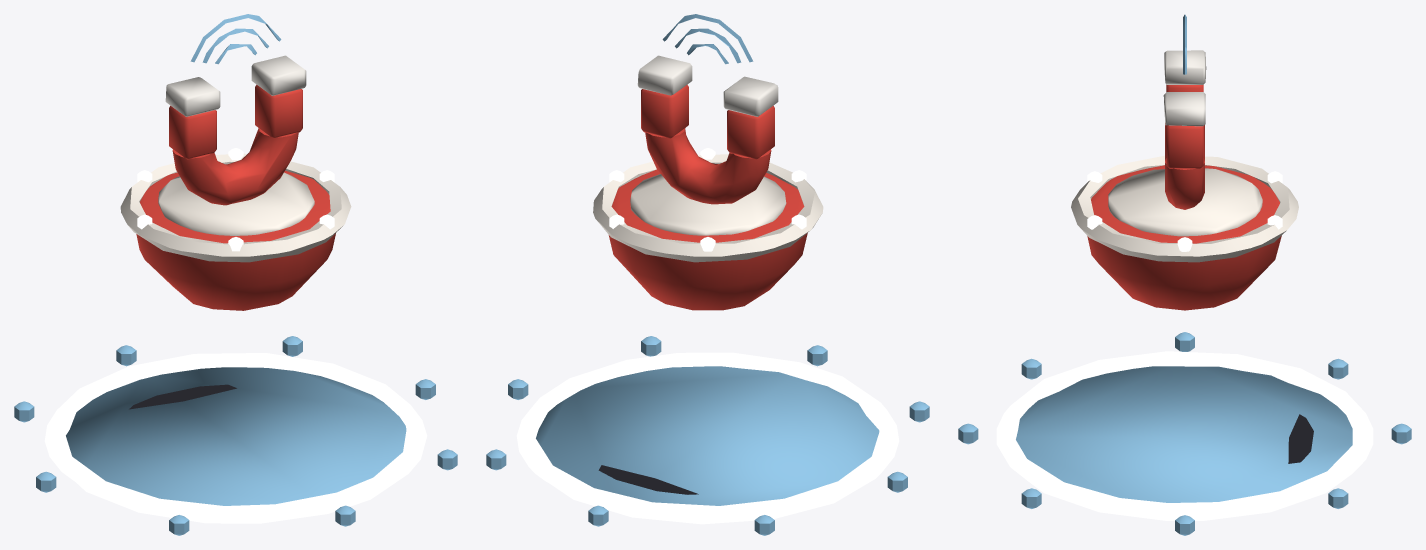
The model's file is pu_magnet.glb.
3 renders of one model, left to right at view 1: azimuth 30°, elevation 25°; view 2: azimuth 150°, elevation 25°; view 3: azimuth 270°, elevation 25°, orthographic.
Parts seen in each view (by area): view 1: pu_magnet.002, capsule.005; view 2: pu_magnet.002, capsule.005; view 3: pu_magnet.002, capsule.005.
Boxes of the visible parts, x1=… form: pu_magnet.002: x1=14, y1=336, x2=457, y2=535; capsule.005: x1=120, y1=14, x2=351, y2=310; pu_magnet.002: x1=486, y1=336, x2=929, y2=535; capsule.005: x1=593, y1=14, x2=823, y2=310; pu_magnet.002: x1=958, y1=332, x2=1411, y2=535; capsule.005: x1=1071, y1=14, x2=1298, y2=310.
Size of the model in its own units: 1.56 by 1.62 by 1.57.
Materials: 1 (1 with a texture image).
